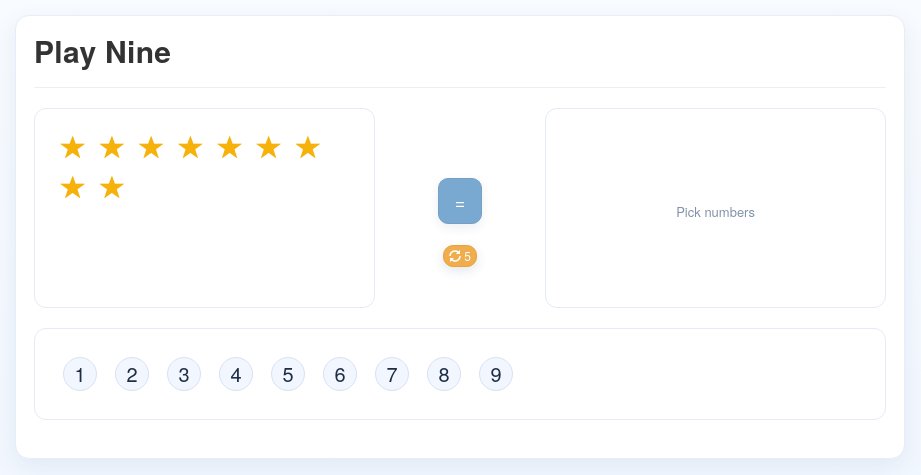
Test: Game › rejects a wrong answer
This screenshot has width=921, height=475.
Click the button "1" at (80, 374), box [63,357,97,391]
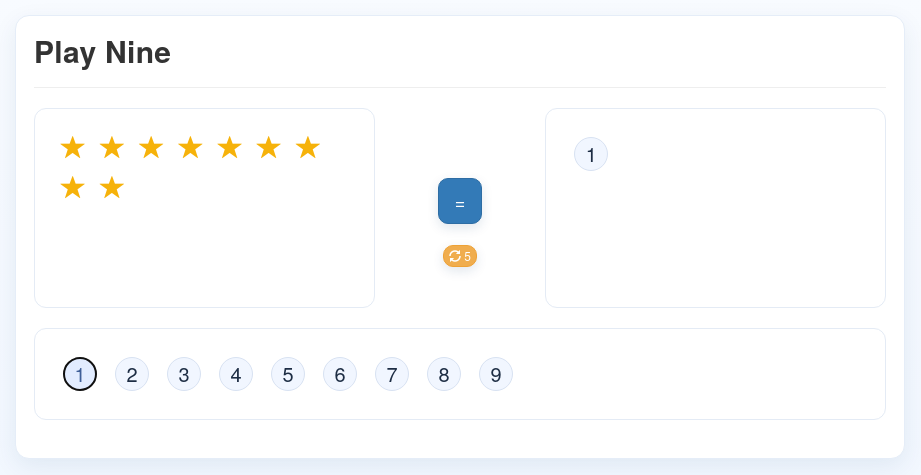
Click the button named "Check answer" at (460, 201), box [438,178,482,224]
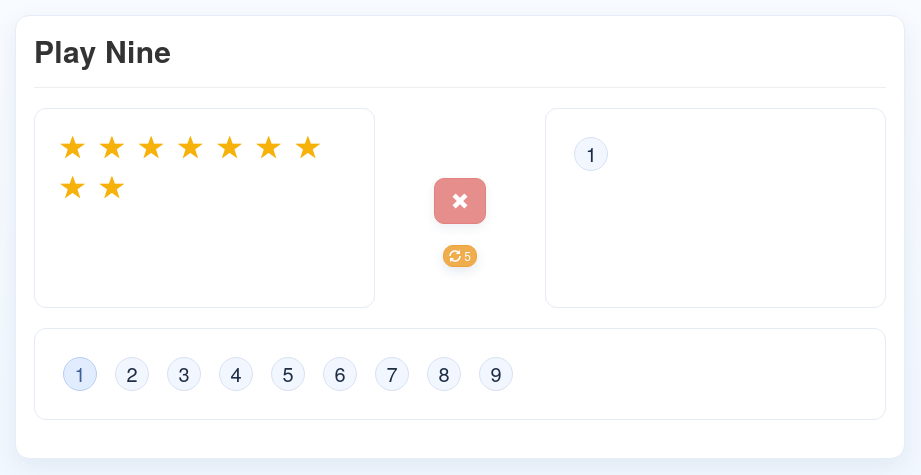
Expected: the button named "Wrong answer" is disabled, [434,178,486,224]
